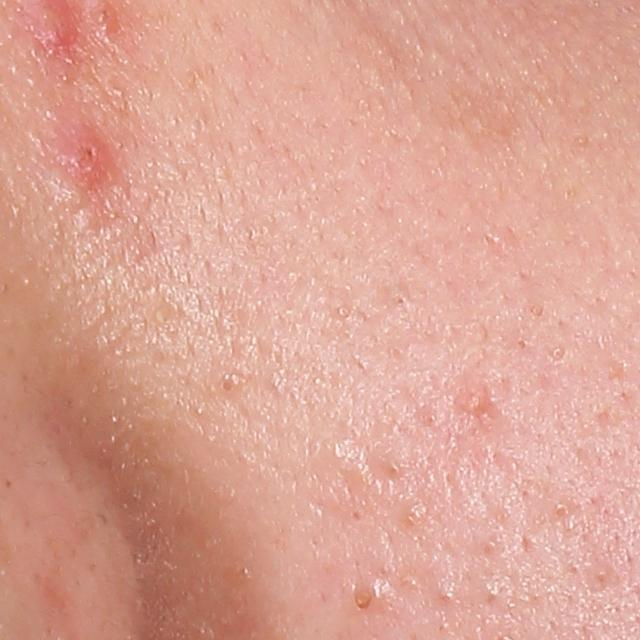comedo: (351, 587, 372, 613), (390, 291, 411, 312), (553, 501, 571, 519)
